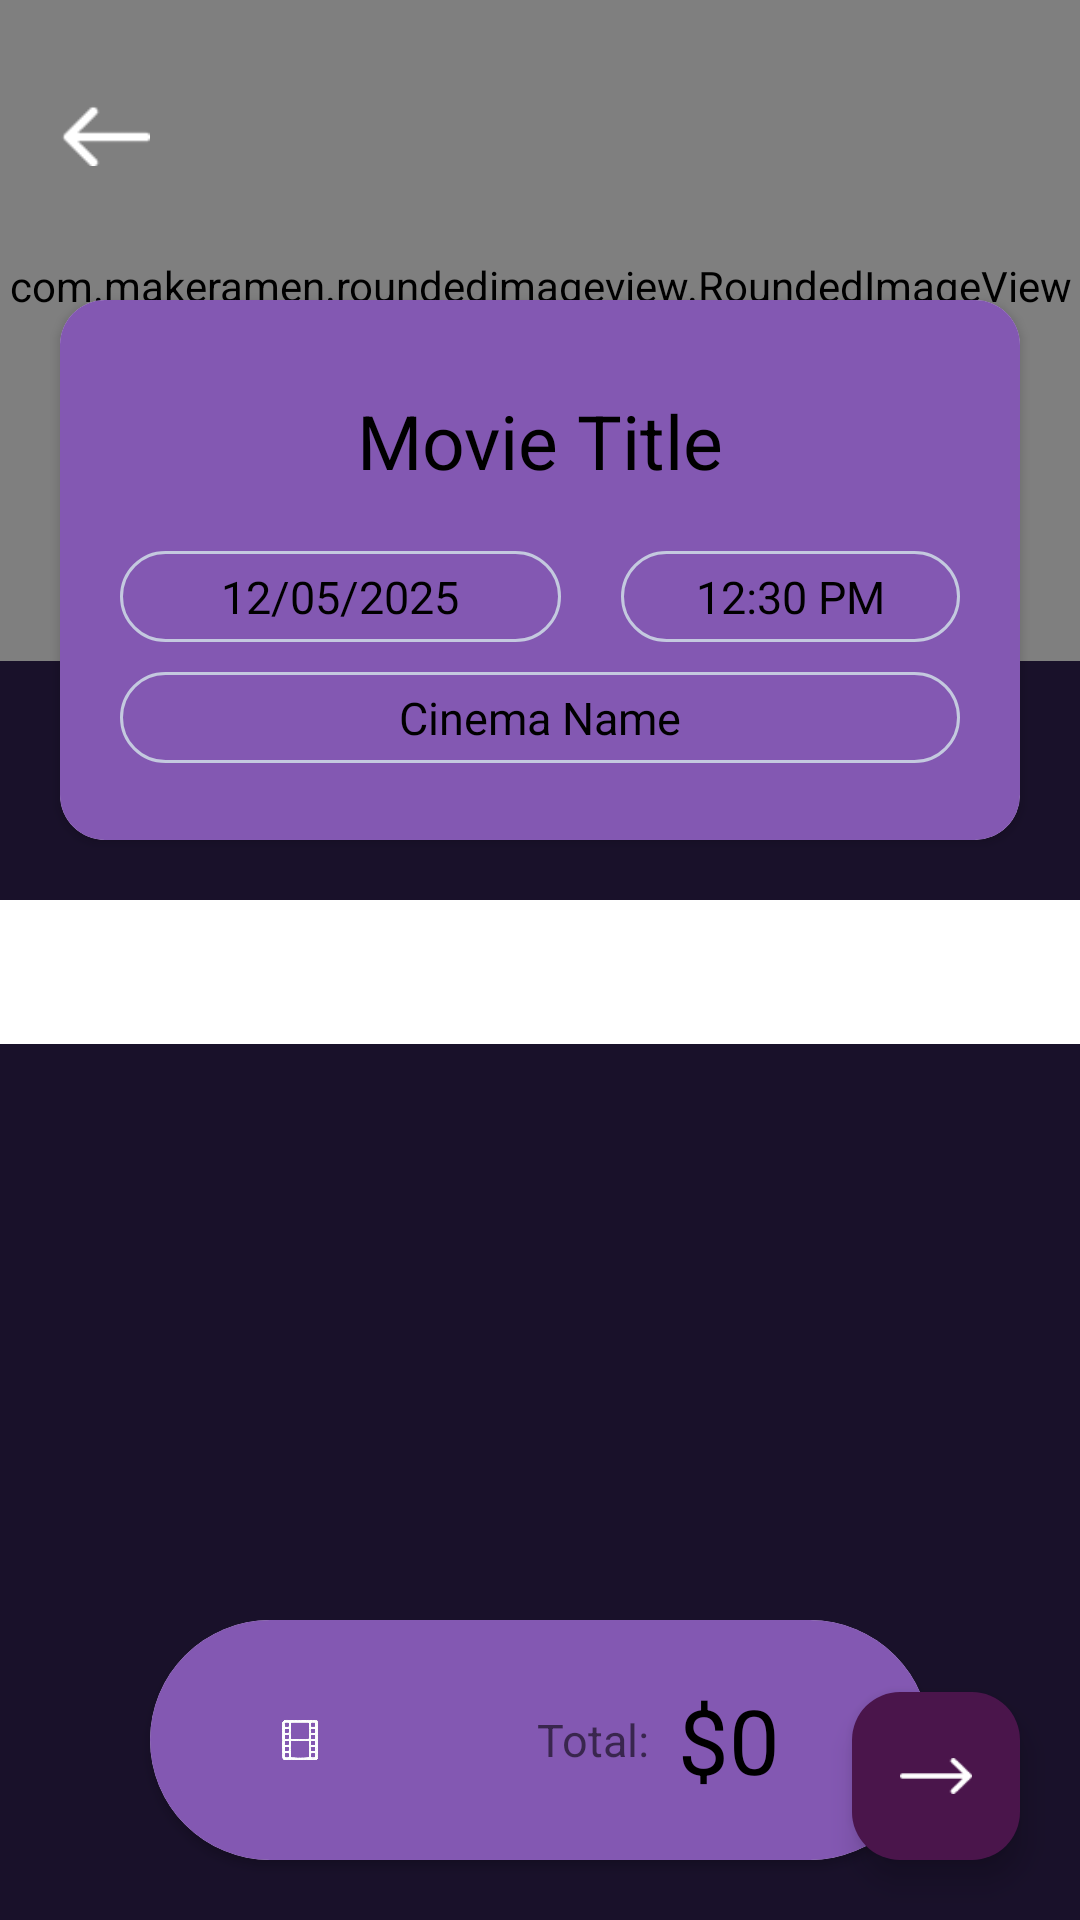

Where icons sit on this 1080px×1920px app screen, as (x1, y1, x2, y2):
back: (63, 107, 150, 166)
next: (852, 1692, 1020, 1860)
